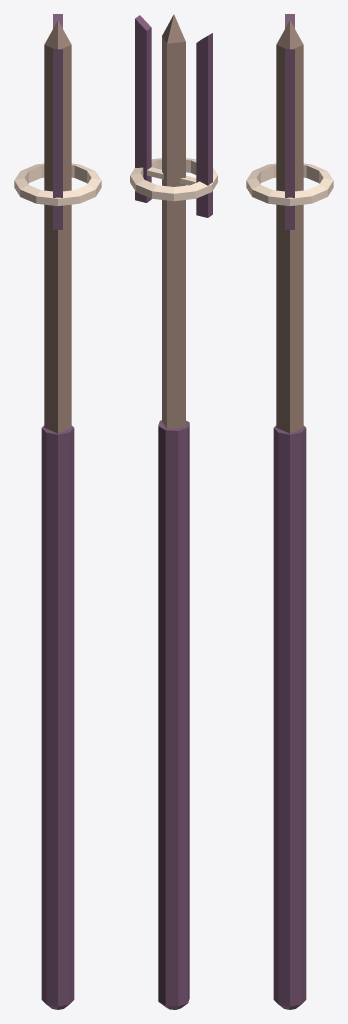
The model's file is cane-13.glb.
The picture shows the model from 3 angles, left to right: view 1: azimuth 90°, elevation 25°; view 2: azimuth 150°, elevation 25°; view 3: azimuth 270°, elevation 25°; orthographic projection.
Visible parts, largest first — view 1: cane_13; view 2: cane_13; view 3: cane_13.
Part boxes in pixels (bbox=[...]): cane_13: bbox=[14, 14, 101, 1009]; cane_13: bbox=[130, 14, 217, 1009]; cane_13: bbox=[246, 14, 333, 1009].
Size of the model in its own units: 15.35 by 192 by 15.35.
1 material, 1 textured.
